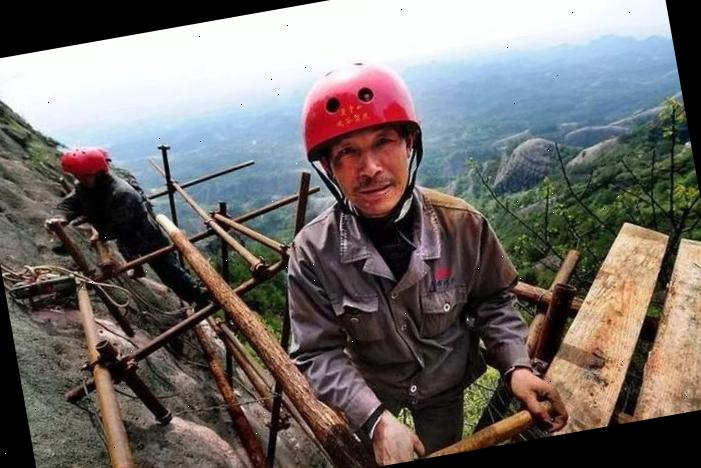helmet: (292, 48, 428, 160), (60, 140, 115, 181)
wear: (274, 180, 526, 432)
